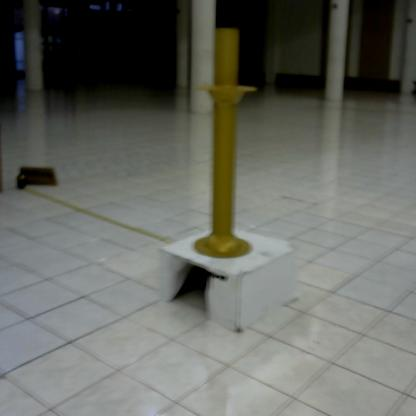pole: (187, 24, 266, 265)
